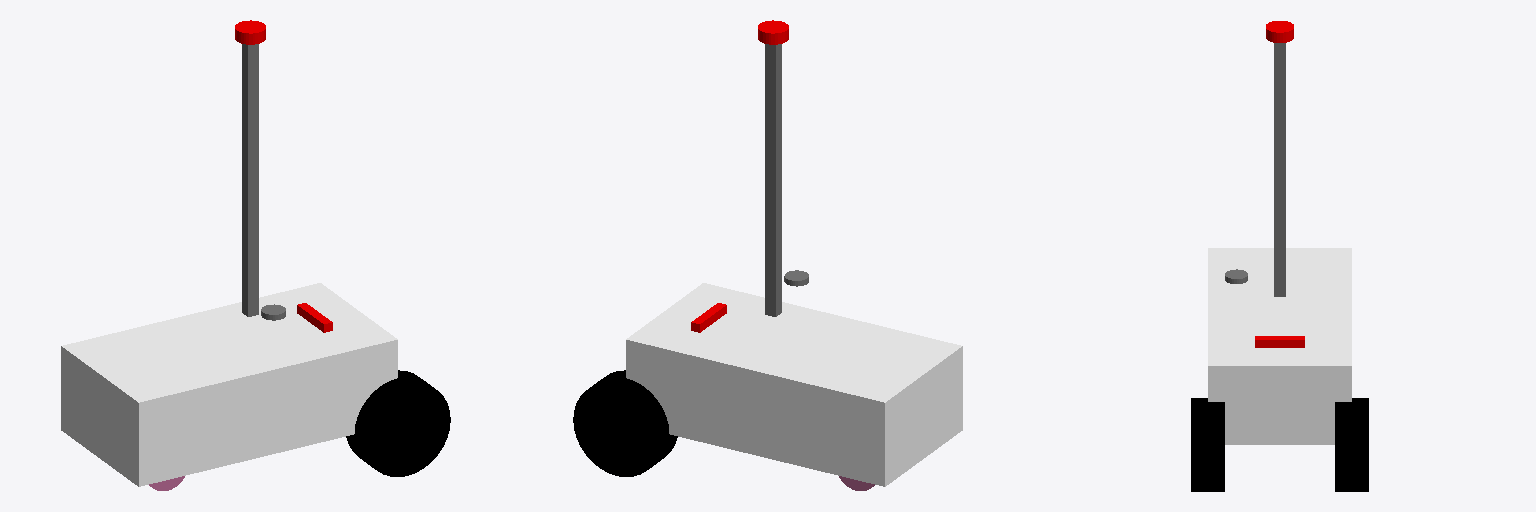
URDF robot description (robot):
<?xml version="1.0"?>
<!-- GENERATED by tools/export_urdf_for_isaac.py. Do not edit by hand.
     Source: src/esda_simulation_2025/description/robot.urdf.xacro
     Masses: research/isaac/config/robot_mass.yaml -->
<robot name="robot">
  <material name="white">
    <color rgba="1 1 1 1"/>
  </material>
  <material name="orange">
    <color rgba="1 0.3 0.1 1"/>
  </material>
  <material name="blue">
    <color rgba="0.2 0.2 1 1"/>
  </material>
  <material name="black">
    <color rgba="0 0 0 1"/>
  </material>
  <material name="red">
    <color rgba="1 0 0 1"/>
  </material>
  <material name="grey">
    <color rgba="0.5 0.5 0.5 1"/>
  </material>
  <link name="base_link"/>
  <joint name="base_footprint_joint" type="fixed">
    <parent link="base_link"/>
    <child link="base_footprint"/>
    <origin rpy="0 0 0" xyz="0 0 0"/>
  </joint>
  <link name="base_footprint"/>
  <joint name="chassis_joint" type="fixed">
    <parent link="base_link"/>
    <child link="chassis"/>
    <origin xyz="-0.965423 0 -0.0"/>
  </joint>
  <link name="chassis">
    <visual>
      <origin xyz="0.4827115 0 0.15"/>
      <geometry>
        <box size="0.965423 0.5 0.3"/>
      </geometry>
      <material name="transparent_white">
        <color rgba="1 1 1 0.1"/>
      </material>
    </visual>
    <collision>
      <origin xyz="0.4827115 0 0.15"/>
      <geometry>
        <box size="0.965423 0.36 0.3"/>
      </geometry>
    </collision>
    <inertial>
      <origin rpy="0 0 0" xyz="0.748 0.0 0.08"/>
      <mass value="45.0"/>
      <inertia ixx="1.2749999999999997" ixy="0.0" ixz="0.0" iyy="3.83265588348375" iyz="0.0" izz="4.43265588348375"/>
    </inertial>
  </link>
  <joint name="left_wheel_joint" type="continuous">
    <parent link="base_link"/>
    <child link="left_wheel"/>
    <origin rpy="-1.5707963267948966 0 0" xyz="0 0.25 0.0"/>
    <axis xyz="0 0 1"/>
  </joint>
  <link name="left_wheel">
    <visual>
      <geometry>
        <cylinder length="0.117" radius="0.1625"/>
      </geometry>
      <material name="black"/>
    </visual>
    <collision>
      <geometry>
        <sphere radius="0.1625"/>
      </geometry>
    </collision>
    <inertial>
      <origin rpy="0 0 0" xyz="0 0 0"/>
      <mass value="4.0"/>
      <inertia ixx="0.030969250000000004" ixy="0.0" ixz="0.0" iyy="0.030969250000000004" iyz="0.0" izz="0.05281250000000001"/>
    </inertial>
  </link>
  <joint name="right_wheel_joint" type="continuous">
    <parent link="base_link"/>
    <child link="right_wheel"/>
    <origin rpy="1.5707963267948966 0 0" xyz="0 -0.25 0.0"/>
    <axis xyz="0 0 -1"/>
  </joint>
  <link name="right_wheel">
    <visual>
      <geometry>
        <cylinder length="0.117" radius="0.1625"/>
      </geometry>
      <material name="black"/>
    </visual>
    <collision>
      <geometry>
        <sphere radius="0.1625"/>
      </geometry>
    </collision>
    <inertial>
      <origin rpy="0 0 0" xyz="0 0 0"/>
      <mass value="4.0"/>
      <inertia ixx="0.030969250000000004" ixy="0.0" ixz="0.0" iyy="0.030969250000000004" iyz="0.0" izz="0.05281250000000001"/>
    </inertial>
  </link>
  <joint name="lidar_pole_joint" type="fixed">
    <parent link="chassis"/>
    <child link="lidar_pole"/>
    <origin rpy="0 0 0" xyz="0.560407 0 0.385"/>
  </joint>
  <link name="lidar_pole">
    <visual>
      <origin xyz="0 0 0.5"/>
      <geometry>
        <box size="0.04 0.04 1.0"/>
      </geometry>
      <material name="grey"/>
    </visual>
    <collision>
      <origin xyz="0 0 0.5"/>
      <geometry>
        <box size="0.04 0.04 1.0"/>
      </geometry>
    </collision>
    <inertial>
      <origin rpy="0 0 0" xyz="0 0 0.5"/>
      <mass value="1.5"/>
      <inertia ixx="0.1252" ixy="0.0" ixz="0.0" iyy="0.1252" iyz="0.0" izz="0.00039999999999999996"/>
    </inertial>
  </link>
  <joint name="laser_joint" type="fixed">
    <parent link="lidar_pole"/>
    <child link="laser_frame"/>
    <origin rpy="0 0 0" xyz="0 0 1.0"/>
  </joint>
  <link name="laser_frame">
    <visual>
      <geometry>
        <cylinder length="0.04" radius="0.05"/>
      </geometry>
      <material name="red"/>
    </visual>
    <visual>
      <origin xyz="0 0 -0.05"/>
      <geometry>
        <cylinder length="0.1" radius="0.01"/>
      </geometry>
      <material name="red"/>
    </visual>
    <collision>
      <geometry>
        <cylinder length="0.04" radius="0.05"/>
      </geometry>
    </collision>
    <inertial>
      <origin rpy="0 0 0" xyz="0 0 0"/>
      <mass value="0.85"/>
      <inertia ixx="0.0006445833333333335" ixy="0.0" ixz="0.0" iyy="0.0006445833333333335" iyz="0.0" izz="0.0010625000000000003"/>
    </inertial>
  </link>
  <joint name="camera_joint" type="fixed">
    <parent link="chassis"/>
    <child link="camera_link"/>
    <origin rpy="0 0 0" xyz="0.8 0 0.315"/>
  </joint>
  <link name="camera_link">
    <visual>
      <geometry>
        <box size="0.033 0.175 0.03"/>
      </geometry>
      <material name="red"/>
    </visual>
  </link>
  <joint name="imu_joint" type="fixed">
    <parent link="camera_link"/>
    <child link="imu_link"/>
    <origin rpy="0 0 0" xyz="0 0 0"/>
  </joint>
  <link name="imu_link"/>
  <joint name="camera_optical_joint" type="fixed">
    <parent link="camera_link"/>
    <child link="camera_link_optical"/>
    <origin rpy="-1.5707963267948966 0 -1.5707963267948966" xyz="0 0 0"/>
  </joint>
  <link name="camera_link_optical"/>
  <joint name="lens_left_joint" type="fixed">
    <parent link="camera_link"/>
    <child link="lens_left"/>
    <origin rpy="0 1.5707963267948966 0" xyz="0.01 0.06 0"/>
  </joint>
  <link name="lens_left">
    <visual>
      <geometry>
        <cylinder length="0.01" radius="0.01"/>
      </geometry>
      <material name="black"/>
    </visual>
  </link>
  <joint name="lens_right_joint" type="fixed">
    <parent link="camera_link"/>
    <child link="lens_right"/>
    <origin rpy="0 1.5707963267948966 0" xyz="0.01 -0.06 0"/>
  </joint>
  <link name="lens_right">
    <visual>
      <geometry>
        <cylinder length="0.01" radius="0.01"/>
      </geometry>
      <material name="black"/>
    </visual>
  </link>
  <joint name="gps_joint" type="fixed">
    <parent link="chassis"/>
    <child link="gps_link"/>
    <origin rpy="0 0 0" xyz="0.56 -0.15 0.45"/>
  </joint>
  <link name="gps_link">
    <visual>
      <geometry>
        <cylinder length="0.02" radius="0.04"/>
      </geometry>
      <material name="grey"/>
    </visual>
    <inertial>
      <origin rpy="0 0 0" xyz="0 0 0"/>
      <mass value="0.05"/>
      <inertia ixx="2.1666666666666667e-05" ixy="0.0" ixz="0.0" iyy="2.1666666666666667e-05" iyz="0.0" izz="4e-05"/>
    </inertial>
  </link>
  <link name="caster_arm">
    <inertial>
      <mass value="0.5"/>
      <inertia ixx="0.00013333333333333334" ixy="0.0" ixz="0.0" iyy="0.00017083333333333336" iyz="0.0" izz="0.00017083333333333336"/>
    </inertial>
  </link>
  <joint name="caster_steer" type="continuous">
    <parent link="chassis"/>
    <child link="caster_arm"/>
    <origin rpy="0 0 0" xyz="0.29 0.0 -0.0825"/>
    <axis xyz="0 0 1"/>
  </joint>
  <link name="caster_wheel">
    <visual>
      <geometry>
        <cylinder length="0.04" radius="0.08"/>
      </geometry>
    </visual>
    <collision>
      <geometry>
        <cylinder length="0.04" radius="0.08"/>
      </geometry>
    </collision>
    <inertial>
      <mass value="0.5"/>
      <inertia ixx="0.0008666666666666666" ixy="0.0" ixz="0.0" iyy="0.0008666666666666666" iyz="0.0" izz="0.0016"/>
    </inertial>
  </link>
  <joint name="caster_wheel_spin" type="continuous">
    <parent link="caster_arm"/>
    <child link="caster_wheel"/>
    <origin rpy="-1.5707963267948966 0 0" xyz="-0.05 0 0"/>
    <axis xyz="0 0 1"/>
  </joint>
</robot>

--- Facts derived from the render (not from the file) ---
The picture shows the robot from 3 angles, left to right: view 1: azimuth 30°, elevation 25°; view 2: azimuth 150°, elevation 25°; view 3: azimuth 270°, elevation 25°; orthographic projection.
Model robot with 15 links and 14 joints (4 continuous, 10 fixed), rooted at base_link, posed every joint at zero.
Visible links, largest first — view 1: chassis, right_wheel, lidar_pole, laser_frame, camera_link; view 2: chassis, left_wheel, lidar_pole, laser_frame, camera_link; view 3: chassis, left_wheel, right_wheel, lidar_pole, camera_link, laser_frame.
Link boxes in pixels (left/top/right/bottom): chassis: left=61, top=283, right=397, bottom=486; right_wheel: left=346, top=370, right=450, bottom=476; lidar_pole: left=242, top=44, right=258, bottom=316; laser_frame: left=235, top=20, right=265, bottom=44; camera_link: left=297, top=303, right=332, bottom=332; chassis: left=626, top=283, right=962, bottom=486; left_wheel: left=573, top=370, right=677, bottom=476; lidar_pole: left=765, top=44, right=781, bottom=316; laser_frame: left=758, top=20, right=788, bottom=44; camera_link: left=691, top=303, right=726, bottom=332; chassis: left=1208, top=248, right=1351, bottom=444; left_wheel: left=1335, top=398, right=1368, bottom=491; right_wheel: left=1191, top=398, right=1224, bottom=491; lidar_pole: left=1274, top=43, right=1285, bottom=296; camera_link: left=1255, top=336, right=1304, bottom=347; laser_frame: left=1266, top=21, right=1293, bottom=42.
Bounding box of the posed robot: 1.13 × 0.617 × 1.57 m (x, y, z).
Geometry: primitives only (box / cylinder / sphere), no mesh files.
